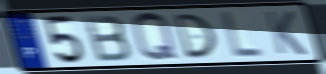5: (41, 14, 86, 65)
B: (81, 14, 135, 64)
D: (171, 12, 219, 60)
K: (263, 10, 310, 57)
L: (220, 10, 265, 59)
Q: (130, 11, 182, 64)
